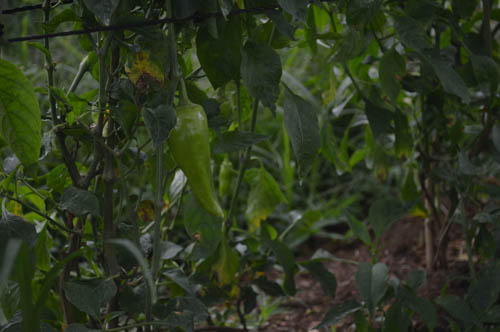ChiliPepper: (177, 107, 226, 211)
